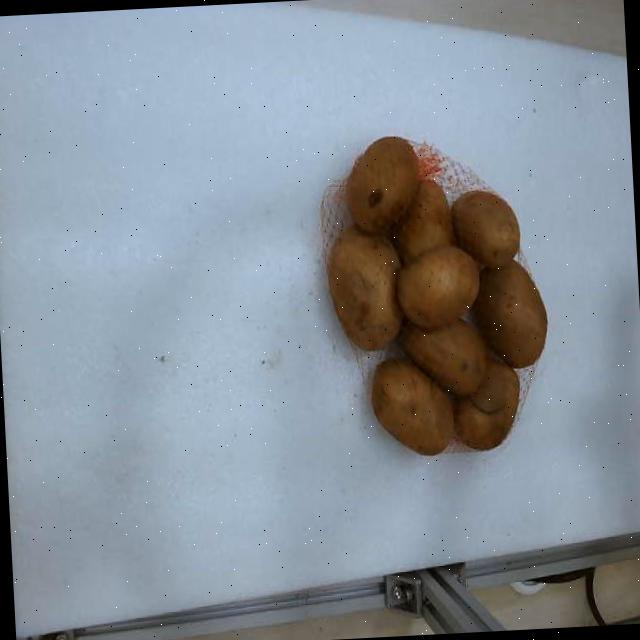potato: (330, 227, 403, 350), (371, 358, 454, 453), (474, 261, 548, 367), (397, 246, 480, 330), (345, 136, 418, 231), (400, 319, 488, 395), (454, 358, 519, 449), (451, 190, 520, 268), (393, 181, 454, 263), (471, 356, 518, 413)
